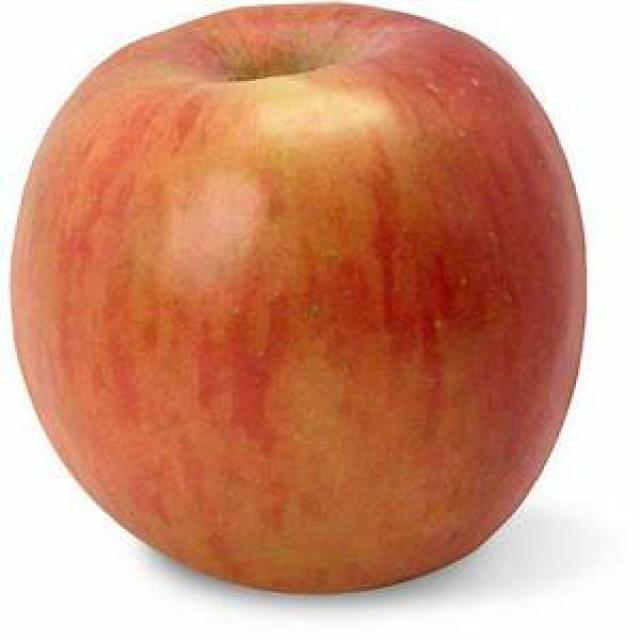apple: (6, 0, 587, 595)
